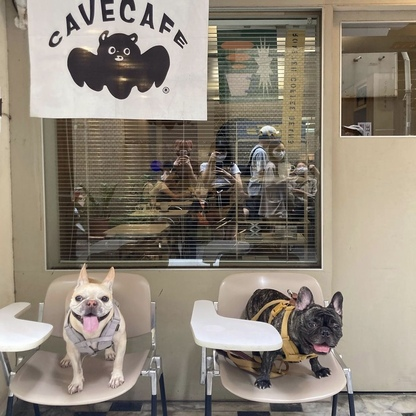bulldog: (234, 284, 347, 391), (58, 262, 130, 396)
